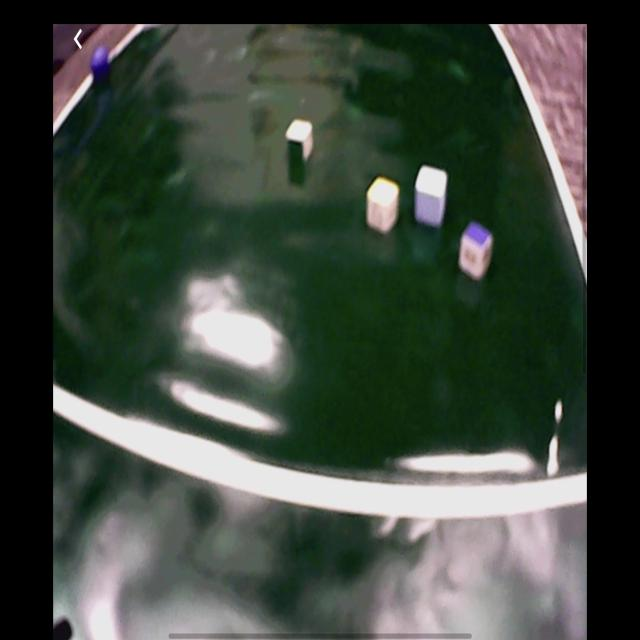ball: (92, 51, 109, 81)
